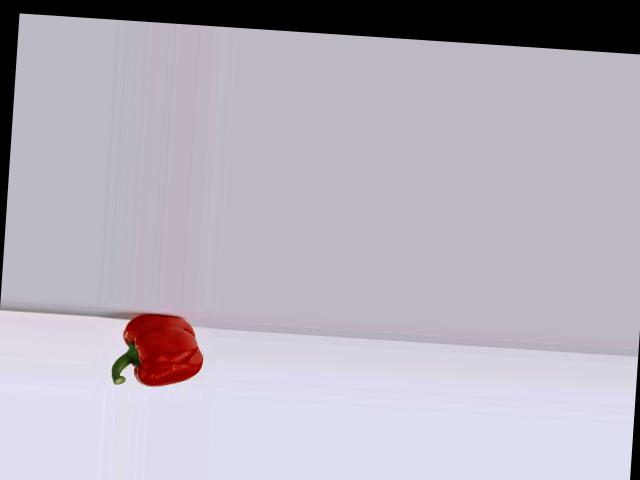bell_pepper: (102, 307, 210, 393)
